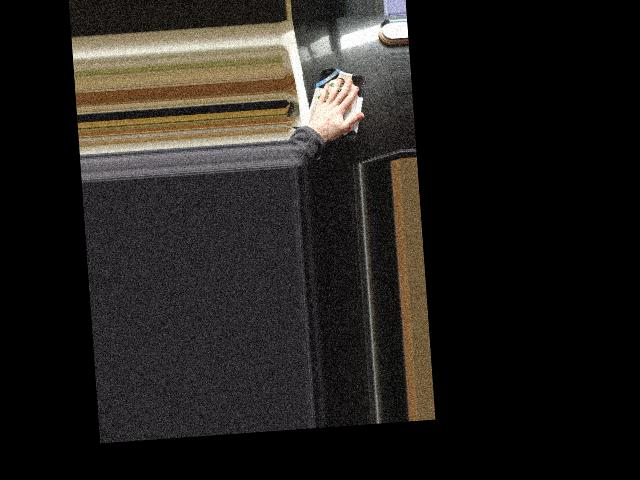cheese: (299, 63, 370, 144)
